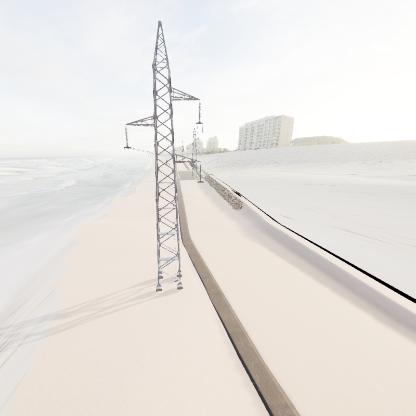tower: (122, 20, 206, 299)
